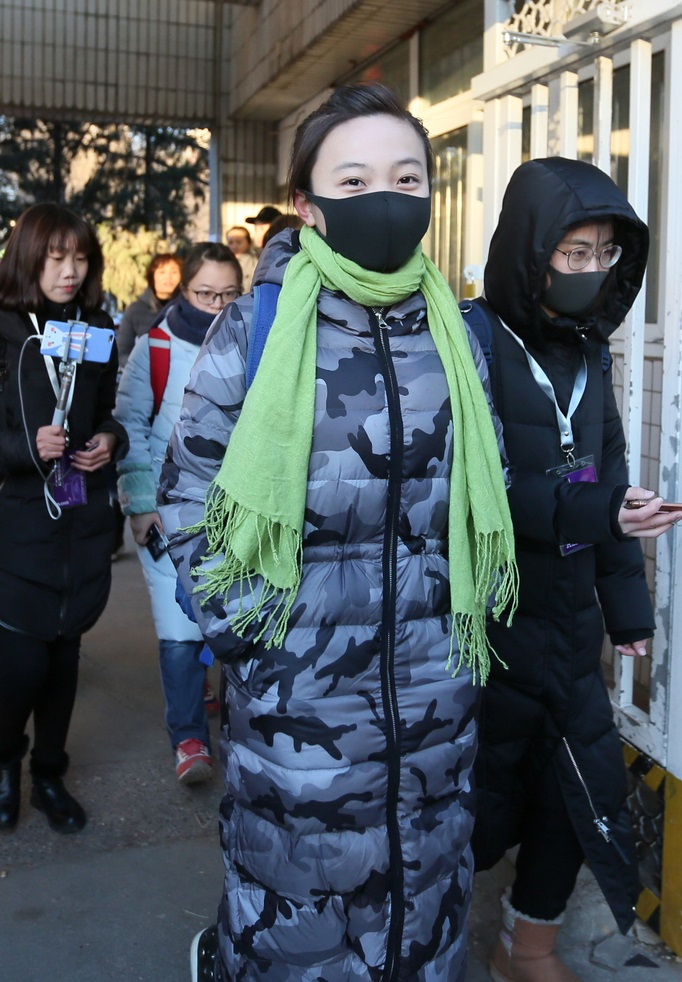face: (39, 229, 86, 302), (189, 265, 240, 321)
face_mask: (315, 121, 436, 273), (553, 210, 620, 316)
